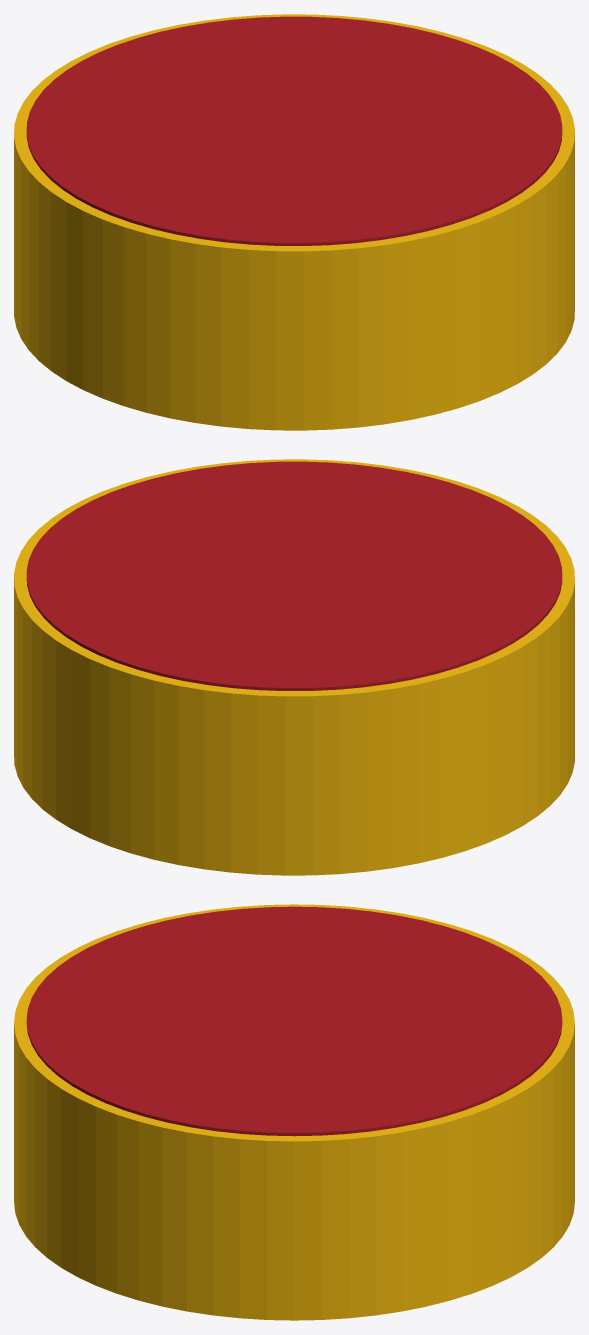
Rendered from working.glb.
3 views of the same model, one above another, from view 1: azimuth 30°, elevation 25°; view 2: azimuth 150°, elevation 25°; view 3: azimuth 270°, elevation 25° (orthographic).
Visible parts, largest first — view 1: Body, Red face; view 2: Body, Red face; view 3: Body, Red face.
Boxes of the visible parts, x1,y1,x2,y2 form: Body: [14, 14, 574, 430]; Red face: [26, 16, 562, 245]; Body: [14, 459, 574, 875]; Red face: [26, 461, 562, 690]; Body: [14, 904, 574, 1320]; Red face: [26, 906, 562, 1136].
Bounding box in the file's own units: 0.067 × 0.024 × 0.067.
